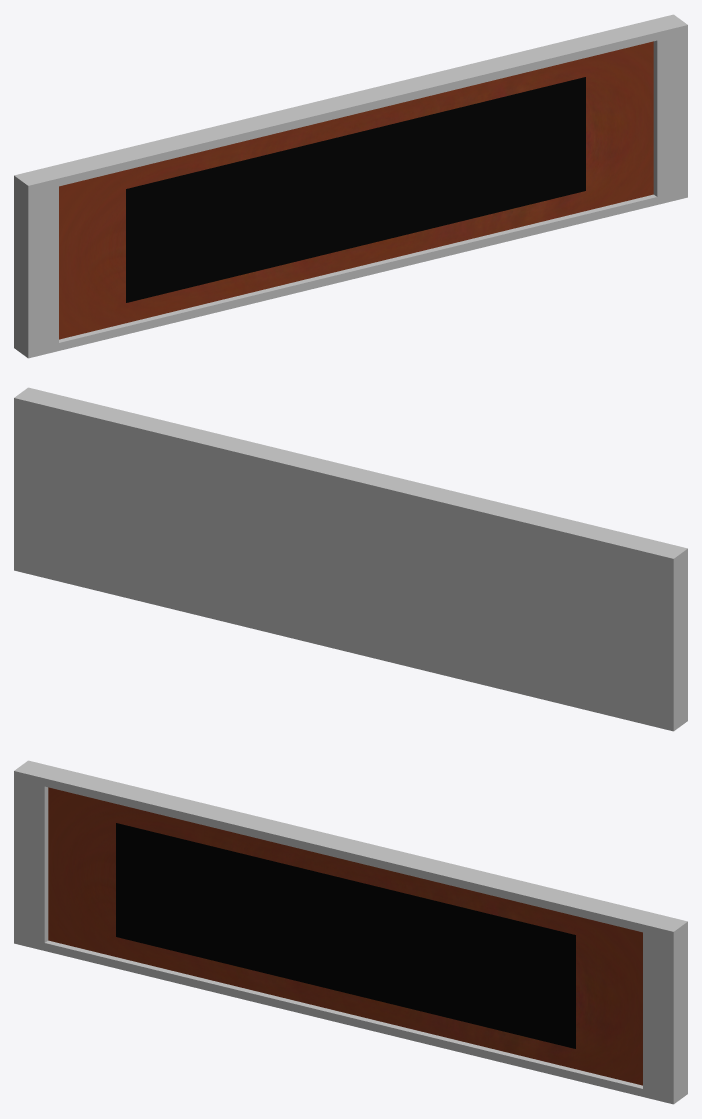
The model's file is Izakaya.fbx.
3 views of the same model, one above another, from view 1: azimuth 30°, elevation 25°; view 2: azimuth 150°, elevation 25°; view 3: azimuth 330°, elevation 25° (orthographic).
Visible parts, largest first — view 1: IzakayaT, IzakayaR, Izakaya; view 2: Izakaya; view 3: IzakayaT, IzakayaR, Izakaya.
Part boxes in pixels (x1=…): IzakayaT: x1=126, y1=77, x2=585, y2=302; IzakayaR: x1=59, y1=41, x2=653, y2=339; Izakaya: x1=14, y1=14, x2=687, y2=358; Izakaya: x1=14, y1=387, x2=687, y2=731; IzakayaT: x1=116, y1=823, x2=575, y2=1048; IzakayaR: x1=48, y1=787, x2=642, y2=1085; Izakaya: x1=14, y1=760, x2=687, y2=1104.
Size of the model in its own units: 400 by 100 by 15.
